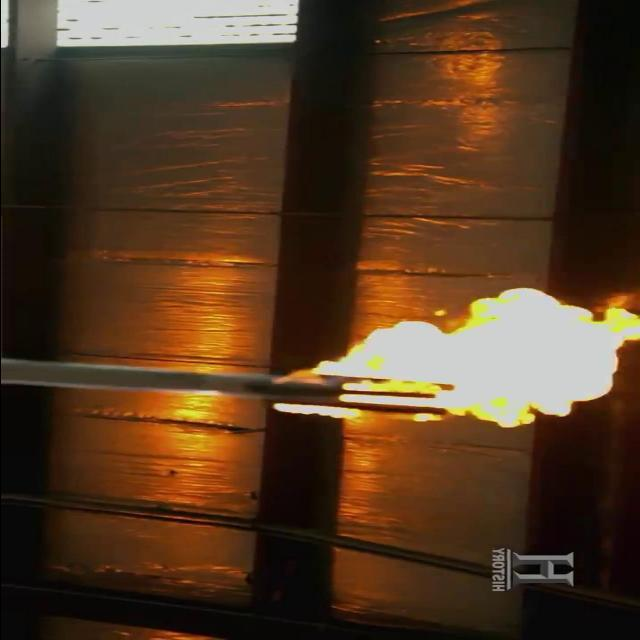Fire: (288, 276, 628, 428)
